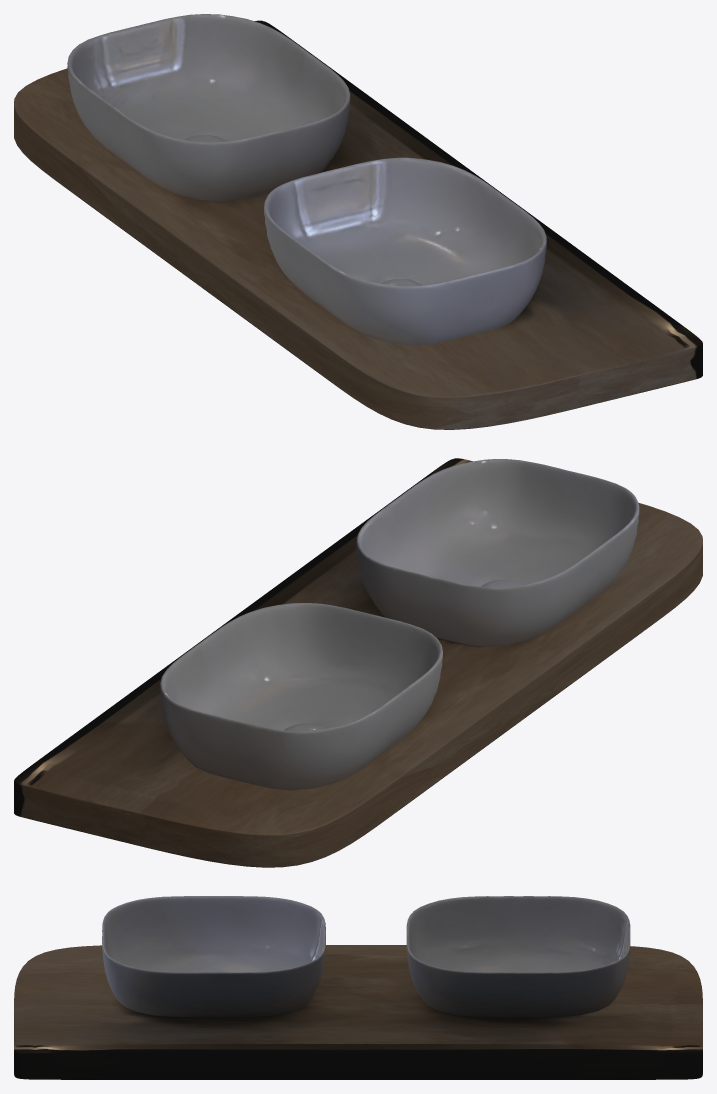
File: Over_Counter_Amazon_91094_Model.glb
3 views of the same model, one above another, from view 1: azimuth 30°, elevation 25°; view 2: azimuth 150°, elevation 25°; view 3: azimuth 270°, elevation 25° (orthographic). The views are drawn at different scales.
Parts seen in each view (by area): view 1: Over_Counter_Amazon_91094_Model; view 2: Over_Counter_Amazon_91094_Model; view 3: Over_Counter_Amazon_91094_Model.
Boxes of the visible parts, x1,y1,x2,y2 form: Over_Counter_Amazon_91094_Model: (14,14,702,429); Over_Counter_Amazon_91094_Model: (14,458,702,867); Over_Counter_Amazon_91094_Model: (14,896,702,1079).
Bounding box in the file's own units: 2.32 × 0.798 × 6.19.
Materials: 1 (1 with a texture image).
